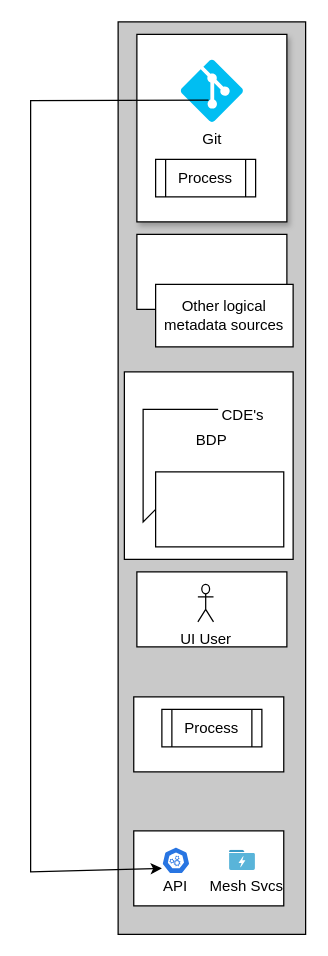
This 328x956 diagram has some shape labels left out. Each missing label, with the centre of its shape:
"ER Studio" belongs at point (211, 271).
"Other business metadata sources" belongs at point (219, 509).
